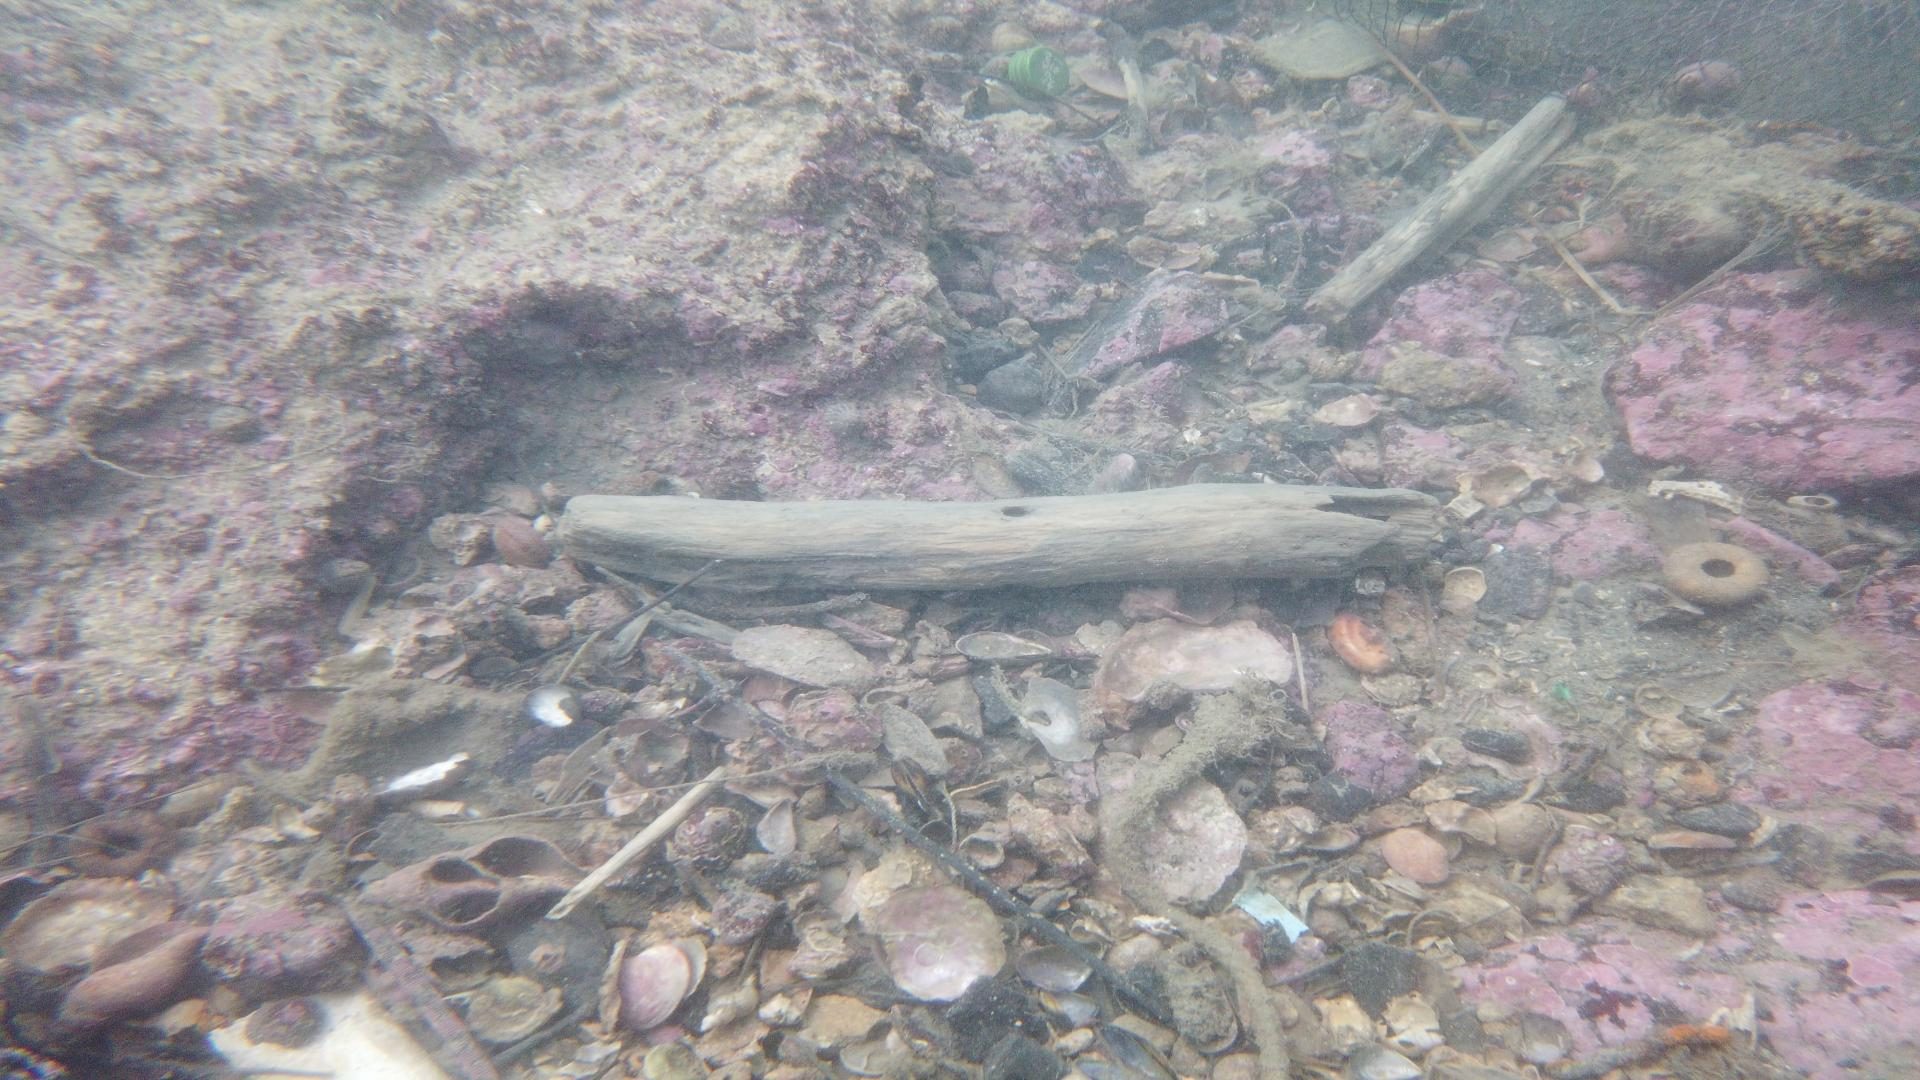fish net: (1311, 0, 1920, 133)
rope: (1104, 735, 1294, 1080)
wood: (558, 479, 1452, 592), (1302, 88, 1578, 328)
